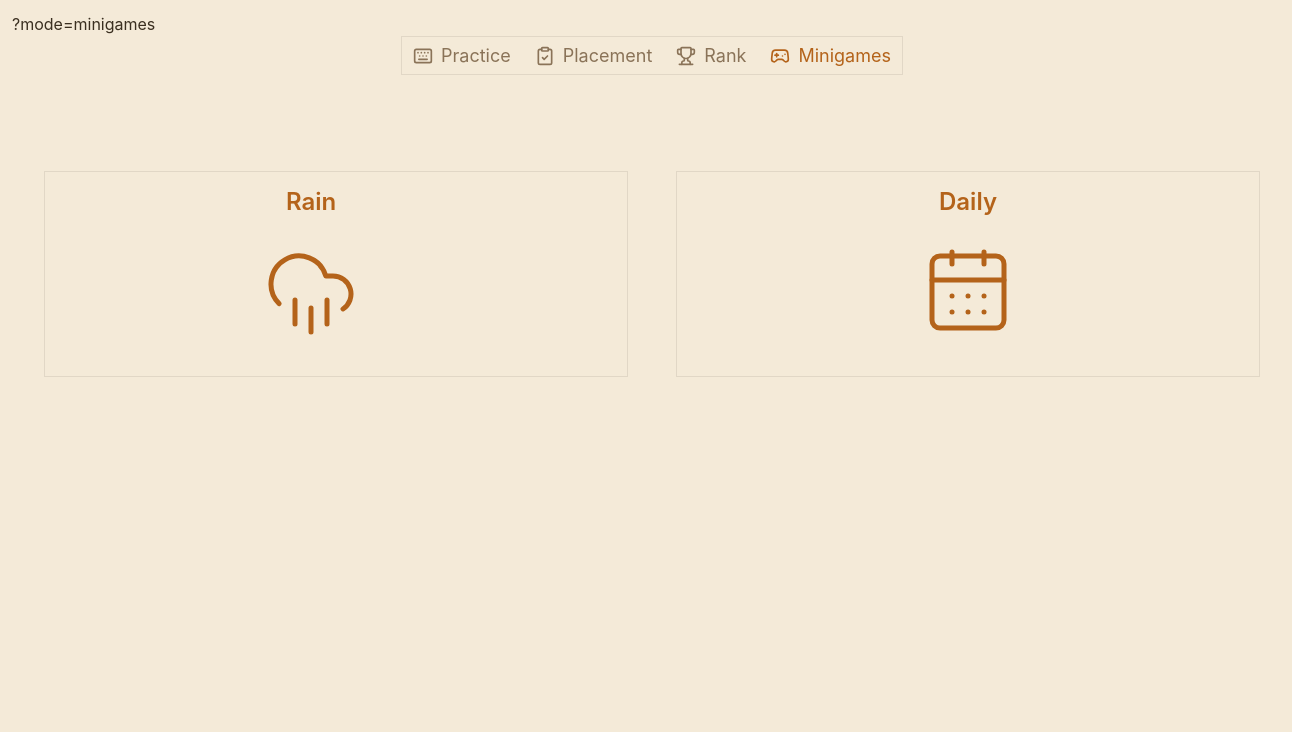
Test: TypingPage › opens word rain from its card and goes back to the cards
Click the button "Rain".
click(336, 274)  # box [44,171,628,377]
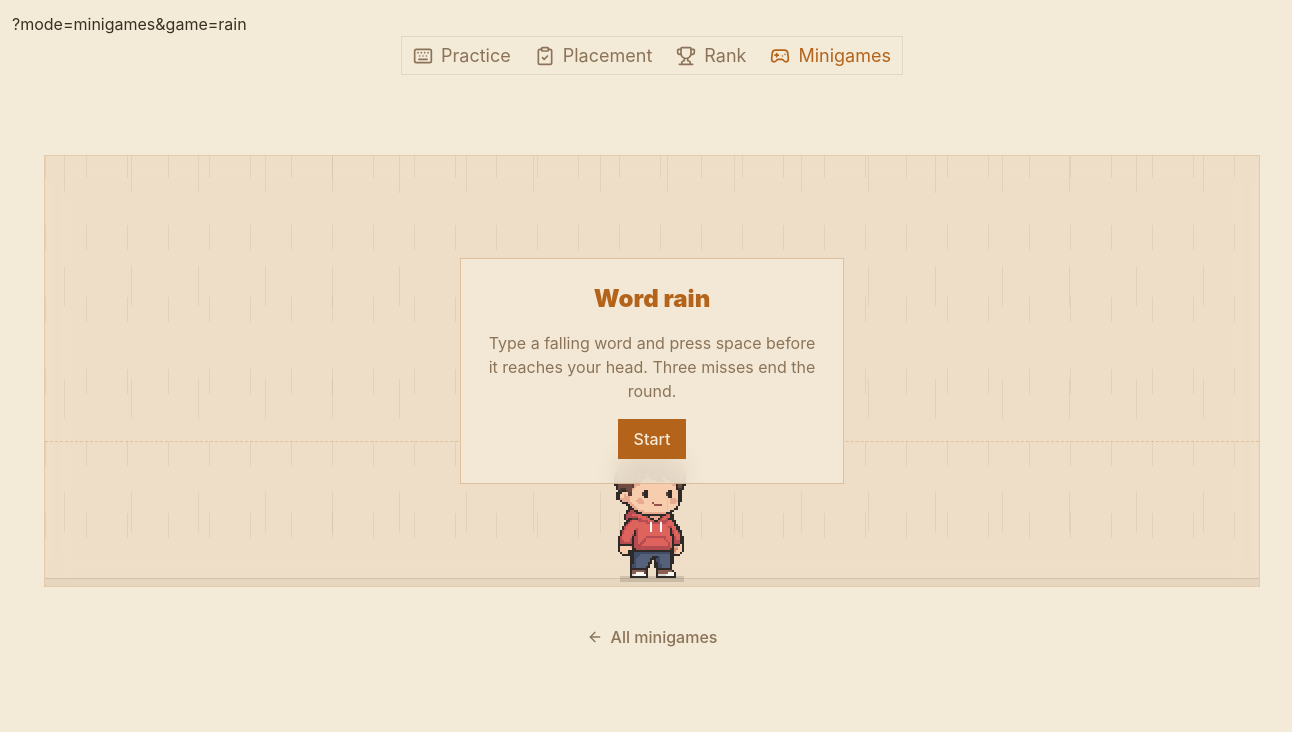
expect the button "Start" is shown: met, box [618,419,686,459]
expect the text named "URL search" reads "?mode=minigames&game=rain": met, box [12,14,247,34]
Click the button "All minigames".
click(652, 637)  # box [575,619,729,655]
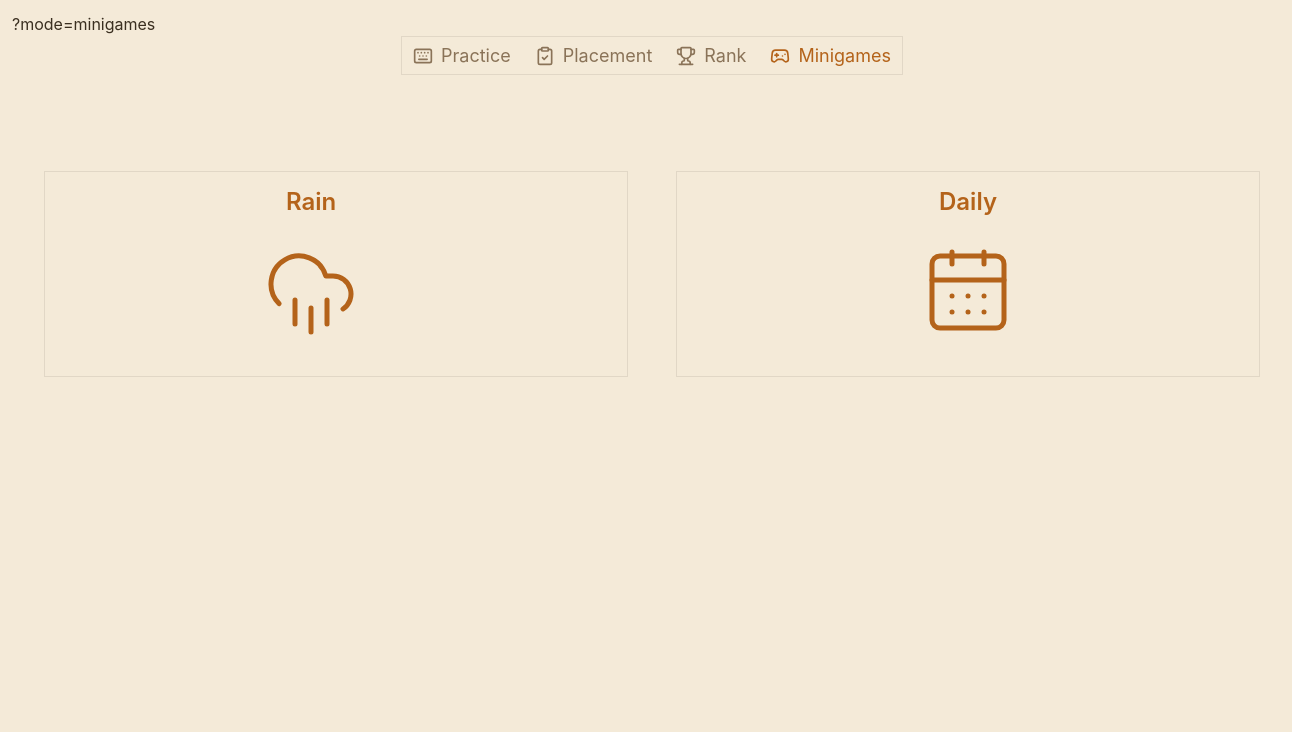
expect the text named "URL search" reads "?mode=minigames": met, box [12,14,155,34]
expect the button "Daily" is shown: met, box [676,171,1260,377]
